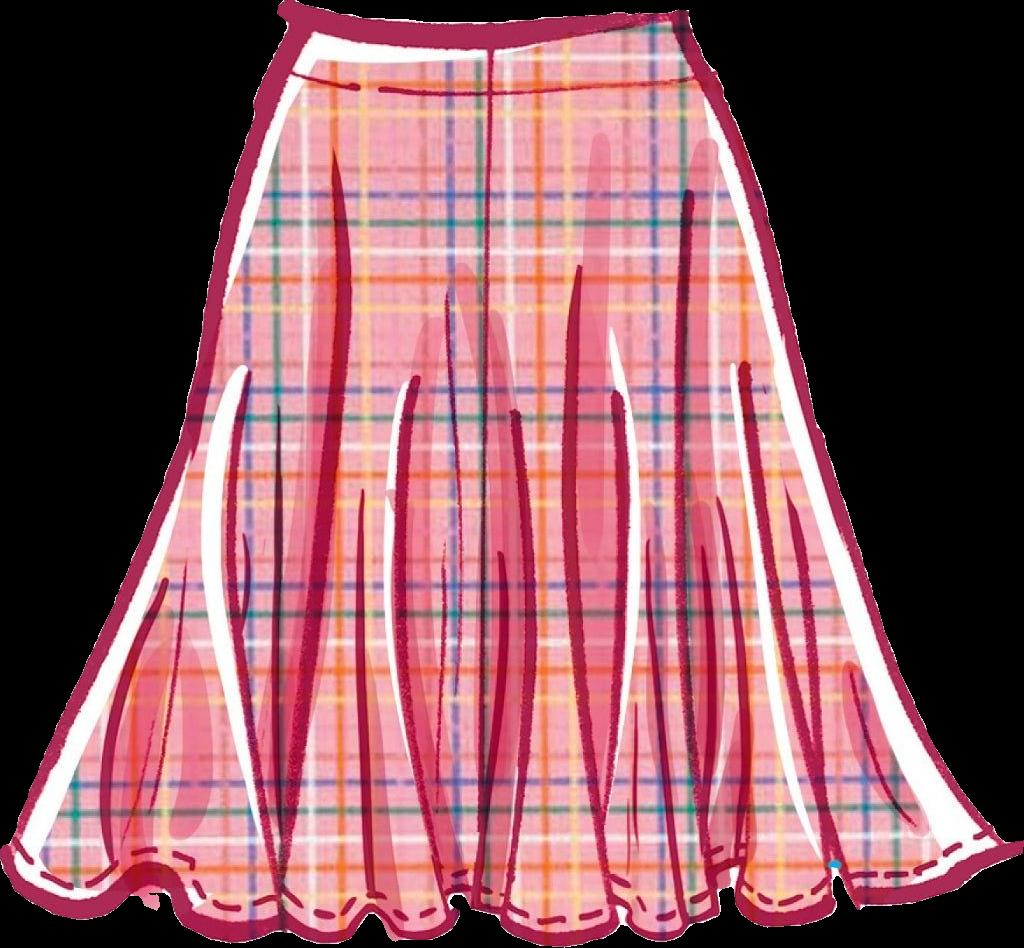Hemline: (0, 846, 1013, 947)
Waistline: (298, 2, 679, 32)
